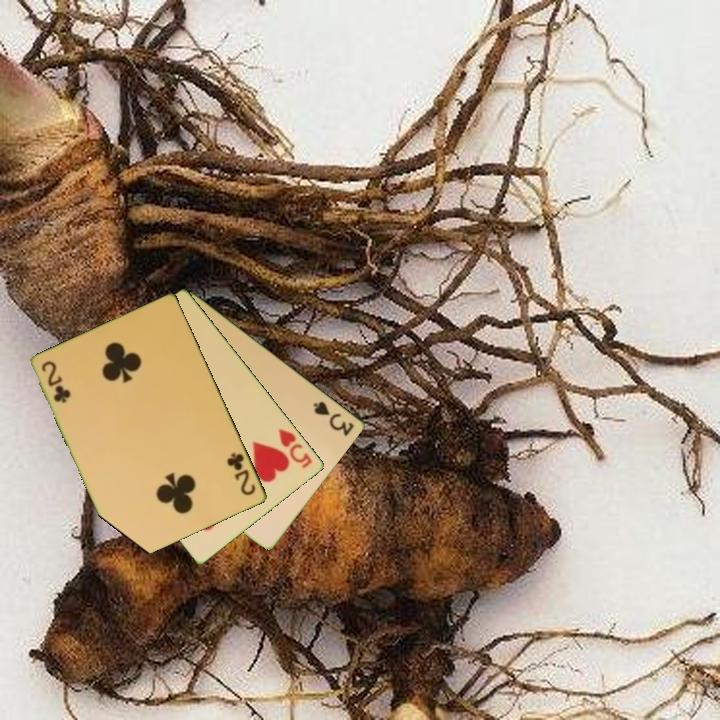2c: (223, 449, 259, 499), (38, 357, 73, 406)
3s: (310, 397, 357, 439)
5h: (275, 425, 316, 472)
